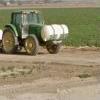Tractor: (3, 6, 69, 67)
